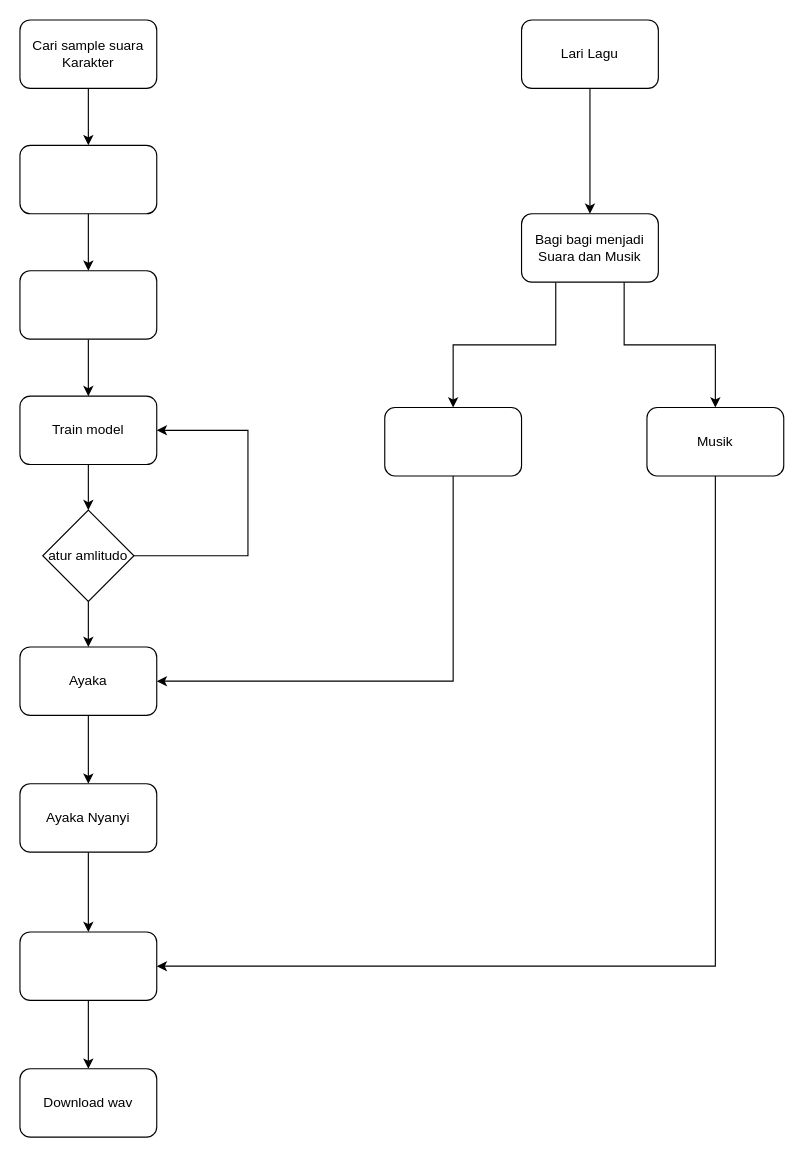
Some shapes in this 804 by 1157 pixel diagram are drawn without their labels. Here are the shapes that lost their labels. From the top down, the centre of each, then its label:
the point at 88,179: Hilangkan Noice
the point at 88,304: Split menjadi beberapa potong
the point at 453,441: Suara
the point at 88,965: Mix
